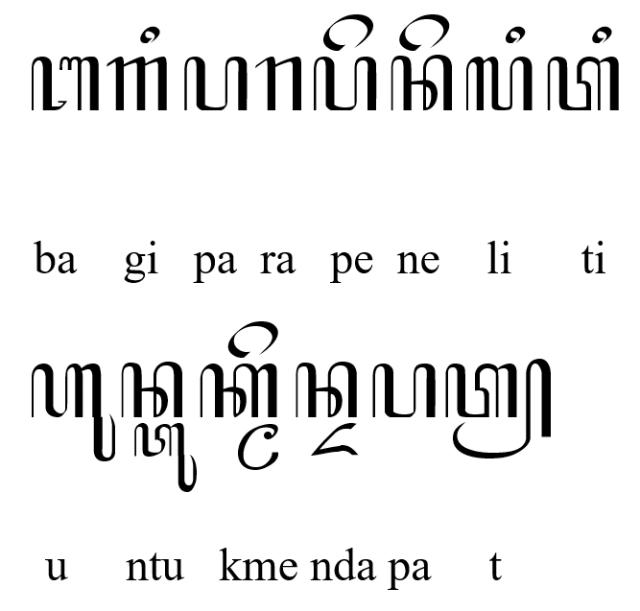-t: (445, 358, 553, 460)
_d: (309, 422, 359, 458)
_m: (237, 422, 279, 470)
b: (30, 55, 100, 113)
e: (227, 319, 279, 359), (322, 13, 374, 52), (398, 13, 450, 52)
g: (105, 55, 168, 111)
hu: (30, 362, 116, 462)
i: (140, 24, 162, 44), (504, 24, 526, 44), (590, 25, 612, 44)
k: (198, 362, 280, 420)
l: (464, 55, 534, 112)
n: (120, 362, 184, 420), (390, 53, 452, 112), (296, 360, 358, 418)
p: (312, 55, 380, 113), (370, 362, 438, 420), (182, 55, 248, 113)
r: (255, 56, 302, 112)
t: (547, 55, 621, 113)
tu: (134, 421, 198, 493)
